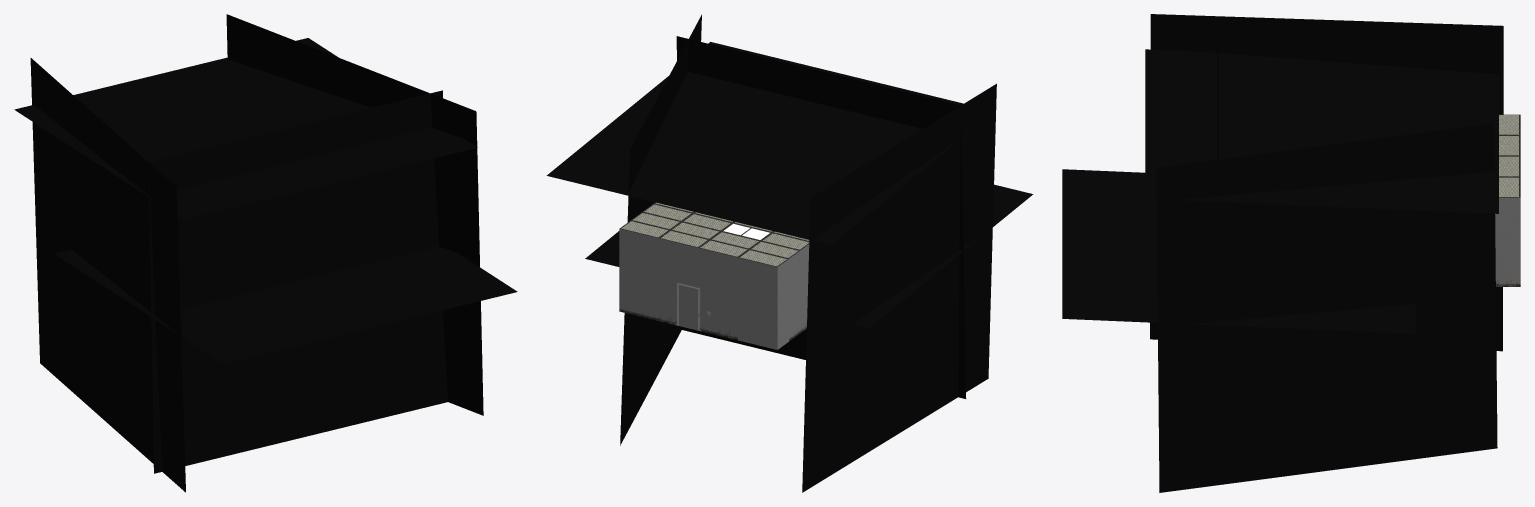
The model's file is office.glb.
3 views of the same model, side by side, from view 1: azimuth 30°, elevation 25°; view 2: azimuth 150°, elevation 25°; view 3: azimuth 270°, elevation 25° (orthographic). The views are drawn at different scales.
Parts seen in each view (by area): view 1: Plane.001, Plane.003, Plane.004, Plane, Plane.002; view 2: Plane.003, Plane.004, Cube, Plane.001, Plane.002, Plane; view 3: Plane.002, Plane.004, Plane, Plane.003, Cube.
Boxes of the visible parts, x1=… form: Plane.001: x1=148, y1=90, x2=447, y2=473; Plane.003: x1=30, y1=58, x2=185, y2=492; Plane.004: x1=14, y1=38, x2=477, y2=219; Plane: x1=54, y1=246, x2=517, y2=363; Plane.002: x1=226, y1=14, x2=483, y2=415; Plane.003: x1=802, y1=83, x2=996, y2=492; Plane.004: x1=546, y1=42, x2=966, y2=244; Cube: x1=619, y1=202, x2=809, y2=349; Plane.001: x1=676, y1=36, x2=966, y2=398; Plane.002: x1=620, y1=14, x2=701, y2=445; Plane: x1=585, y1=184, x2=1033, y2=327; Plane.002: x1=1156, y1=123, x2=1497, y2=492; Plane.004: x1=1145, y1=49, x2=1498, y2=213; Plane: x1=1062, y1=169, x2=1415, y2=333; Plane.003: x1=1150, y1=14, x2=1503, y2=351; Cube: x1=1495, y1=114, x2=1520, y2=286.
Bounding box in the file's own units: 7.61 × 7.19 × 9.31.
6 materials, 1 textured.
